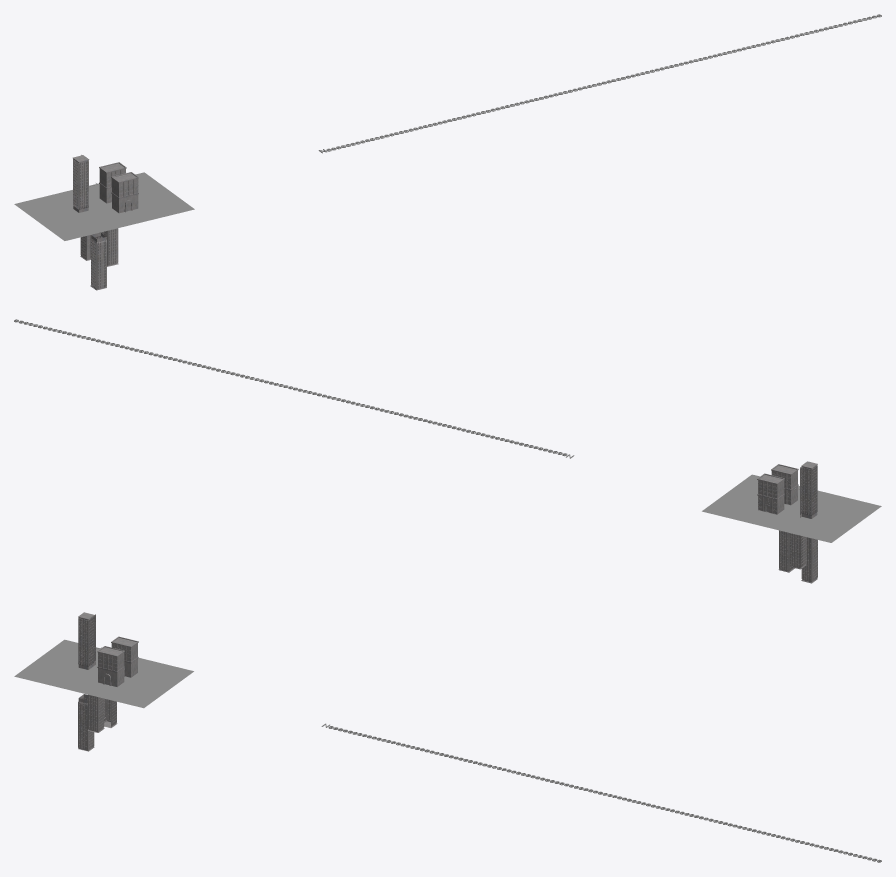
File: building3.FBX
3 views of the same model, one above another, from view 1: azimuth 30°, elevation 25°; view 2: azimuth 150°, elevation 25°; view 3: azimuth 330°, elevation 25° (orthographic).
Parts seen in each view (by area): view 1: Plane001, Text001, Box021, Box020; view 2: Plane001, Text001, Box020, Box021; view 3: Plane001, Text001, Box021, Box020, Box022, Box014.
Part boxes in pixels (box(x1,y1,x2,y2)): Plane001: box(14, 172, 194, 240); Text001: box(318, 14, 881, 153); Box021: box(111, 172, 138, 213); Box020: box(99, 162, 126, 203); Plane001: box(702, 474, 881, 542); Text001: box(14, 319, 574, 458); Box020: box(757, 473, 784, 514); Box021: box(771, 464, 798, 505); Plane001: box(14, 639, 193, 708); Text001: box(321, 723, 881, 862); Box021: box(97, 646, 124, 686); Box020: box(111, 636, 138, 677); Box022: box(78, 617, 88, 669); Box014: box(78, 698, 88, 750).
Bounding box in the file's own units: 87.03 × 12.24 × 9.06.
Materials: 3 (1 with a texture image).
